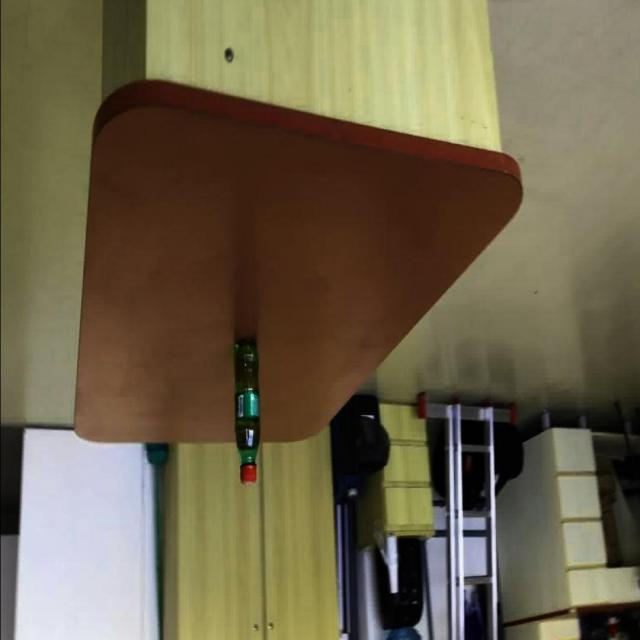Guarana: (74, 77, 525, 480), (233, 336, 261, 482)
